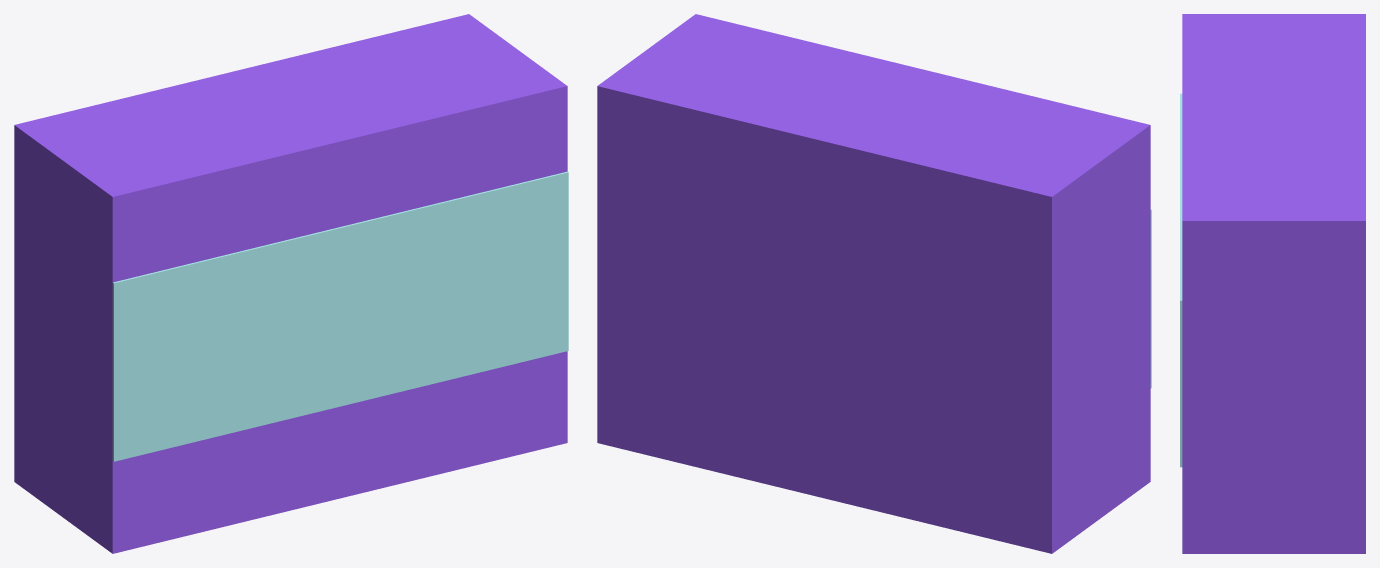
3 renders of one model, left to right at view 1: azimuth 30°, elevation 25°; view 2: azimuth 150°, elevation 25°; view 3: azimuth 270°, elevation 25°, orthographic. The views are drawn at different scales.
Visible parts, largest first — view 1: Mesh_0.011; view 2: Mesh_0.011; view 3: Mesh_0.011.
Part boxes in pixels (x1=…): Mesh_0.011: x1=14, y1=14, x2=568, y2=553; Mesh_0.011: x1=597, y1=14, x2=1151, y2=553; Mesh_0.011: x1=1180, y1=14, x2=1365, y2=553.
Size of the model in its own units: 4 by 3 by 1.52.
